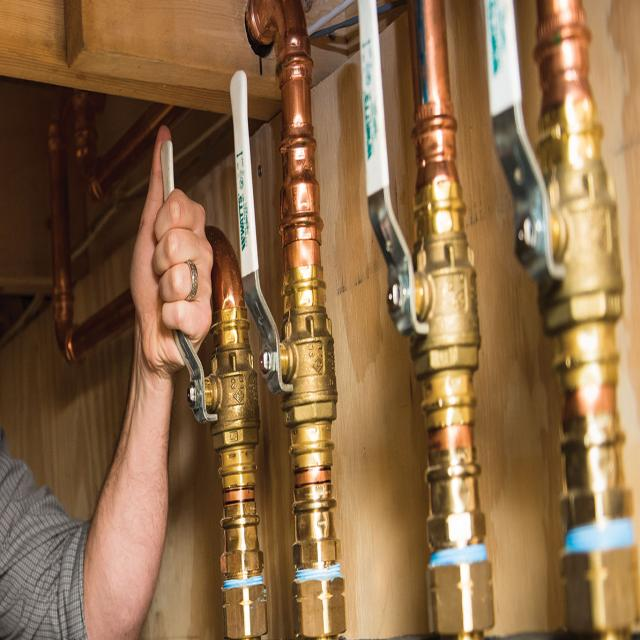Lever Handle Valve Threaded: (486, 0, 636, 632), (358, 1, 494, 632), (230, 71, 338, 640)
